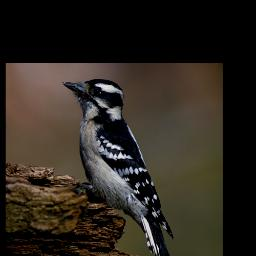Woodpecker: (62, 76, 174, 256)
